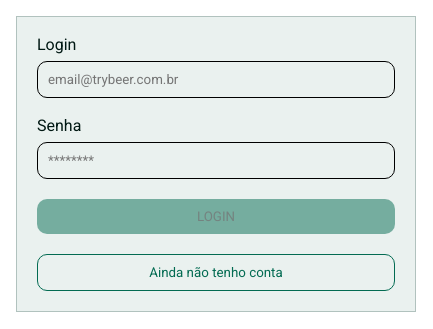
Test case: Testing Login - Page › Expected to login button is enabled with correct fields
This screenshot has width=433, height=329.
Step 1. Type "valid@email.com" into the field with test id "common_login__input-email" → point(216, 80), box [37,61,395,98]
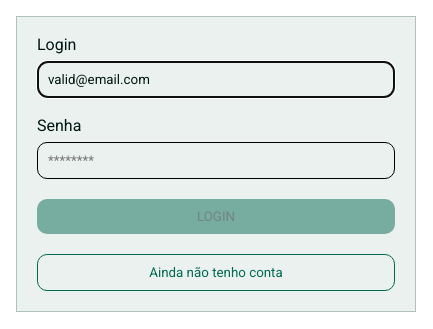
Step 2. Type "validPassword" into the password field with test id "common_login__input-password" → point(216, 160), box [37,142,395,179]
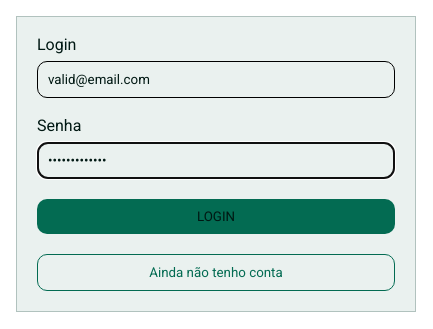
Result: the button with test id "common_login__button-login" is enabled at [37,199,395,234]
